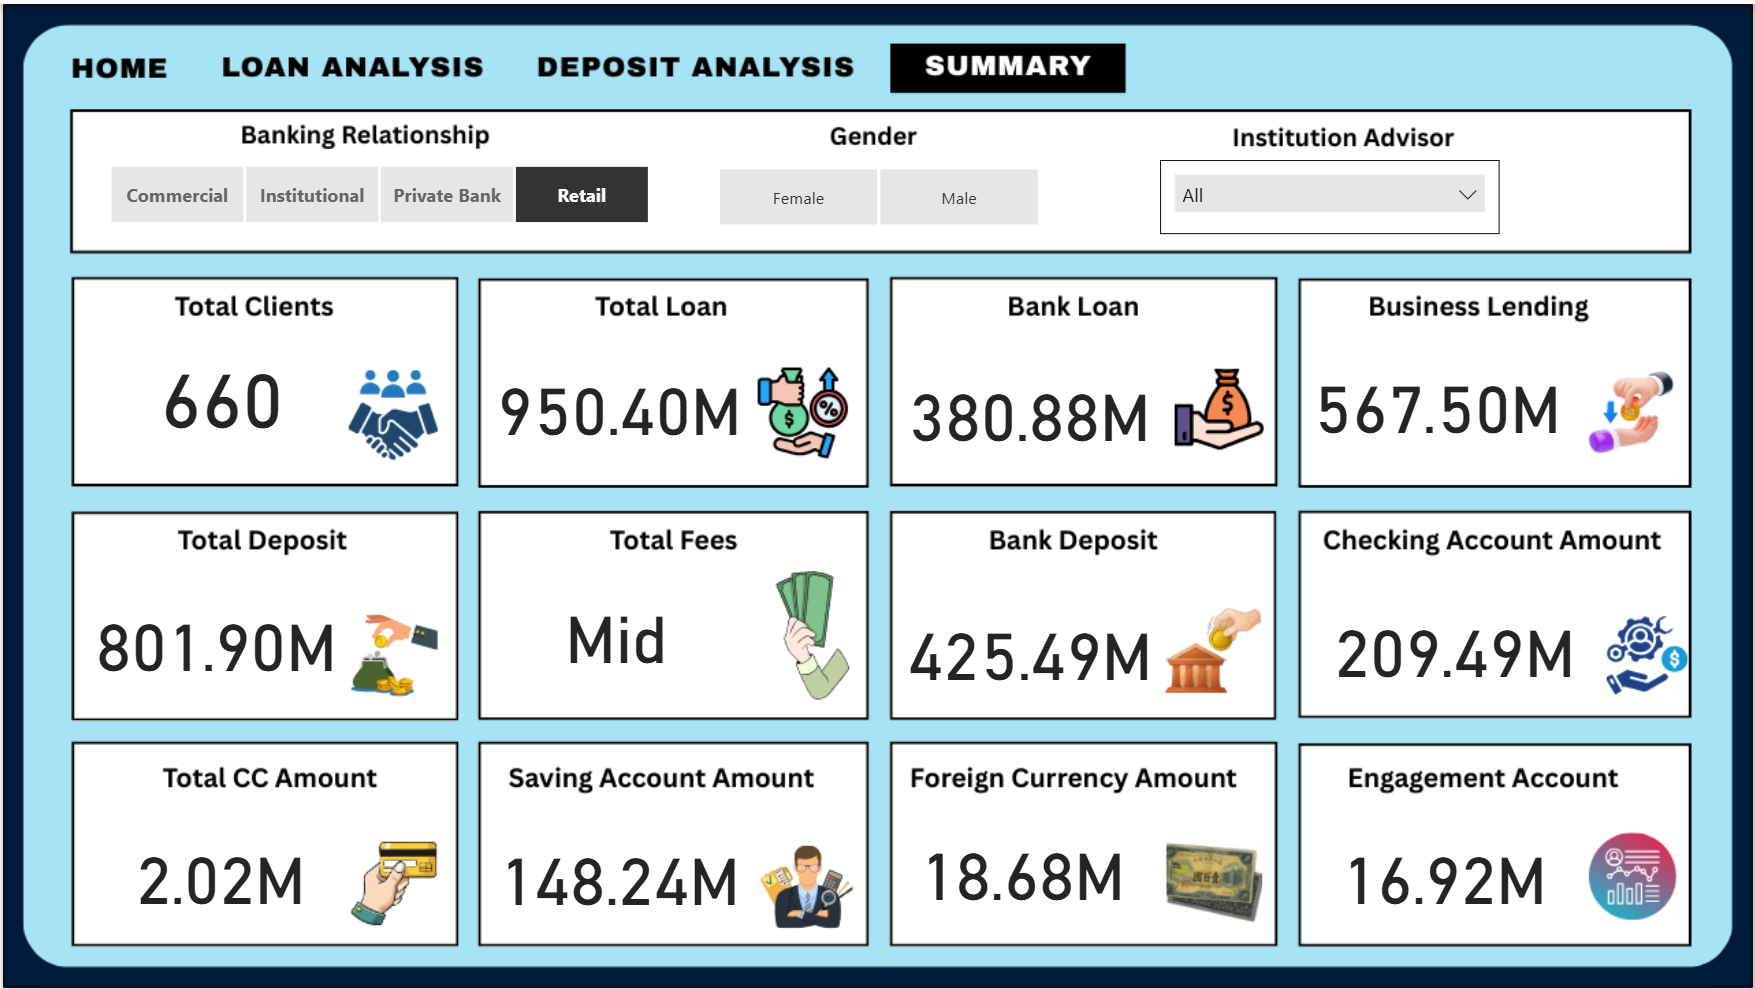

What the dashboard file says about the page in this screenshot:
{"tool":"powerbi","page":{"name":"Summary","canvas":[1280,720],"ordinal":3},"visuals":[{"type":"slicer","fields":{"Values":["Banking1.BRId"]},"box":[52.8,112.3,442.5,54.2],"z":0},{"type":"slicer","fields":{"Values":["Banking1.GenderId"]},"box":[498,113.6,282.7,54.2],"z":1000},{"type":"slicer","fields":{"Values":["Banking1.IAId"]},"box":[846.7,114.9,248.3,54.2],"z":2000},{"type":"card","fields":{"Values":["CountNonNull(Banking1.Client_ID)"]},"box":[75.3,241.7,167.8,83.2],"z":3000},{"type":"card","fields":{"Values":["Banking1.Total Loan"]},"box":[353.8,262.5,194,60.9],"z":4000},{"type":"card","fields":{"Values":["Sum(Banking1.Bank_Loans)"]},"box":[656.2,266.3,190.2,60.9],"z":5000},{"type":"card","fields":{"Values":["Sum(Banking1.Business_Lending)"]},"box":[950.9,254.9,195.9,72.3],"z":6000},{"type":"card","fields":{"Values":["Banking1.Total Deposit"]},"box":[57.1,427.9,197.8,74.2],"z":7000},{"type":"card","fields":{"Values":["Max(Banking1.Fee_Structure)"]},"box":[375.1,426.7,147.9,66],"z":8000},{"type":"card","fields":{"Values":["Sum(Banking1.Bank_Deposits)"]},"box":[656.2,441.2,190.2,60.9],"z":9000},{"type":"card","fields":{"Values":["Sum(Banking1.Checking_Accounts)"]},"box":[951.1,437.2,221.9,64.7],"z":10000},{"type":"card","fields":{"Values":["Sum(Banking1.Credit_Card_Balance)"]},"box":[75.3,601,166.4,70],"z":11000},{"type":"card","fields":{"Values":["Sum(Banking1.Saving_Accounts)"]},"box":[354,606.3,194.2,59.4],"z":12000},{"type":"card","fields":{"Values":["Sum(Banking1.Foreign_Currency_Account)"]},"box":[661.8,603.7,167.8,59.4],"z":13000},{"type":"card","fields":{"Values":["Sum(Banking1.Superannuation_Savings)"]},"box":[962.5,606.9,183.6,58.6],"z":14000},{"type":"actionButton","box":[37,23.8,100.4,39.6],"z":15000},{"type":"actionButton","box":[147.9,26.4,214,39.6],"z":16000},{"type":"actionButton","box":[383.1,25.1,245.7,39.6],"z":17000}]}

Visuals, with their boxes in screenshot pixels (x1, y1, x2, y2), scaled from the page's 1280x720 canvas onto the 1755x989 screenshot:
slicer - Banking1.BRId: x1=72 y1=154 x2=679 y2=229
slicer - Banking1.GenderId: x1=683 y1=156 x2=1070 y2=230
slicer - Banking1.IAId: x1=1161 y1=158 x2=1501 y2=232
card - CountNonNull(Banking1.Client_ID): x1=103 y1=332 x2=333 y2=446
card - Banking1.Total Loan: x1=485 y1=361 x2=751 y2=444
card - Sum(Banking1.Bank_Loans): x1=900 y1=366 x2=1160 y2=449
card - Sum(Banking1.Business_Lending): x1=1304 y1=350 x2=1572 y2=449
card - Banking1.Total Deposit: x1=78 y1=588 x2=349 y2=690
card - Max(Banking1.Fee_Structure): x1=514 y1=586 x2=717 y2=677
card - Sum(Banking1.Bank_Deposits): x1=900 y1=606 x2=1160 y2=690
card - Sum(Banking1.Checking_Accounts): x1=1304 y1=601 x2=1608 y2=689
card - Sum(Banking1.Credit_Card_Balance): x1=103 y1=826 x2=331 y2=922
card - Sum(Banking1.Saving_Accounts): x1=485 y1=833 x2=752 y2=914
card - Sum(Banking1.Foreign_Currency_Account): x1=907 y1=829 x2=1137 y2=911
card - Sum(Banking1.Superannuation_Savings): x1=1320 y1=834 x2=1571 y2=914
actionButton: x1=51 y1=33 x2=188 y2=87
actionButton: x1=203 y1=36 x2=496 y2=91
actionButton: x1=525 y1=34 x2=862 y2=89
